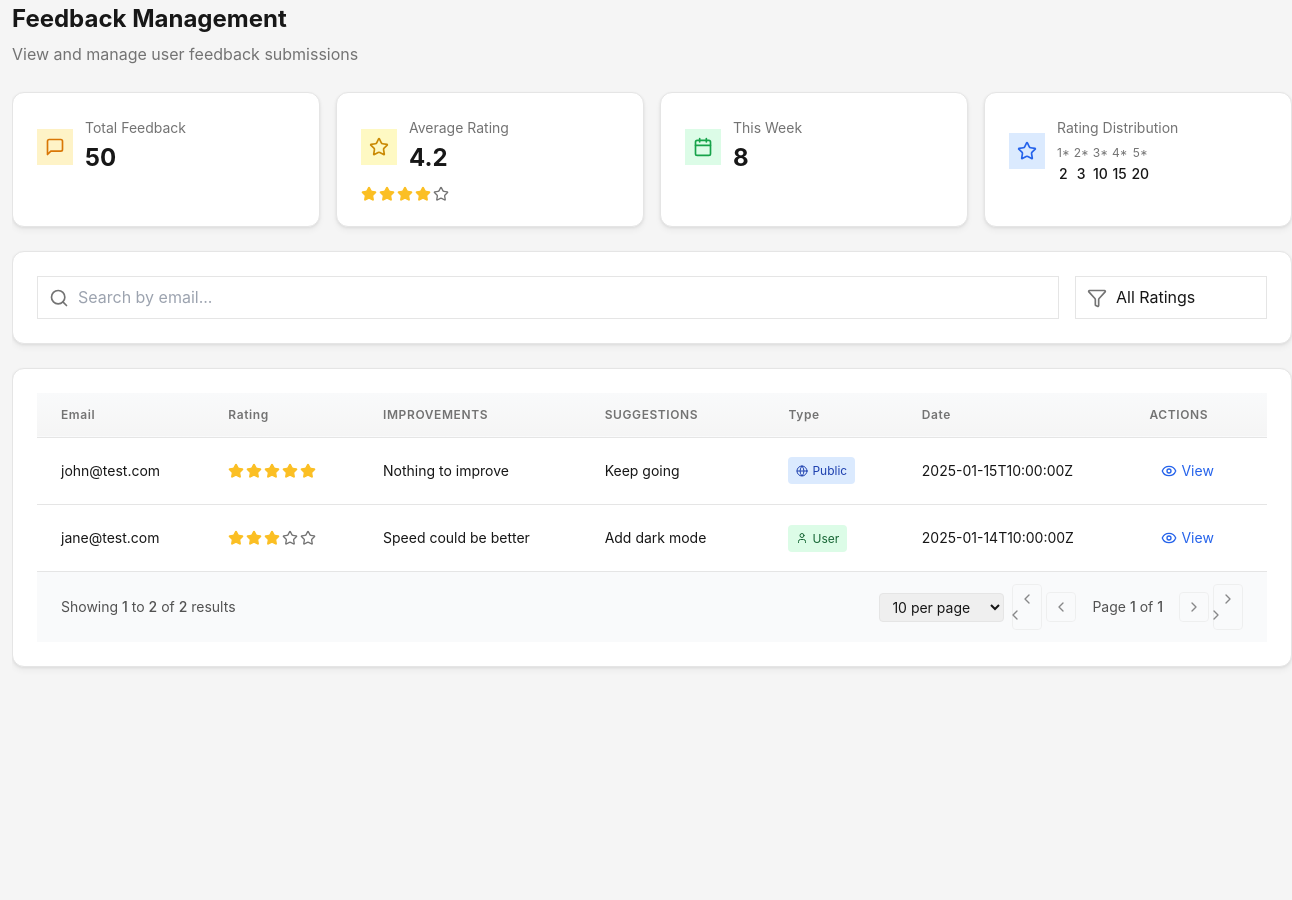
Scenario: FeedbackManagement › handles clear filters
The image size is (1292, 900).
Expected: the text "john@test.com" is shown, [37,437,204,504]
// Type in search to make Clear button appear
Type "test" into the field with placeholder "Search by email...". click: (548, 298)
box: [37,276,1059,319]
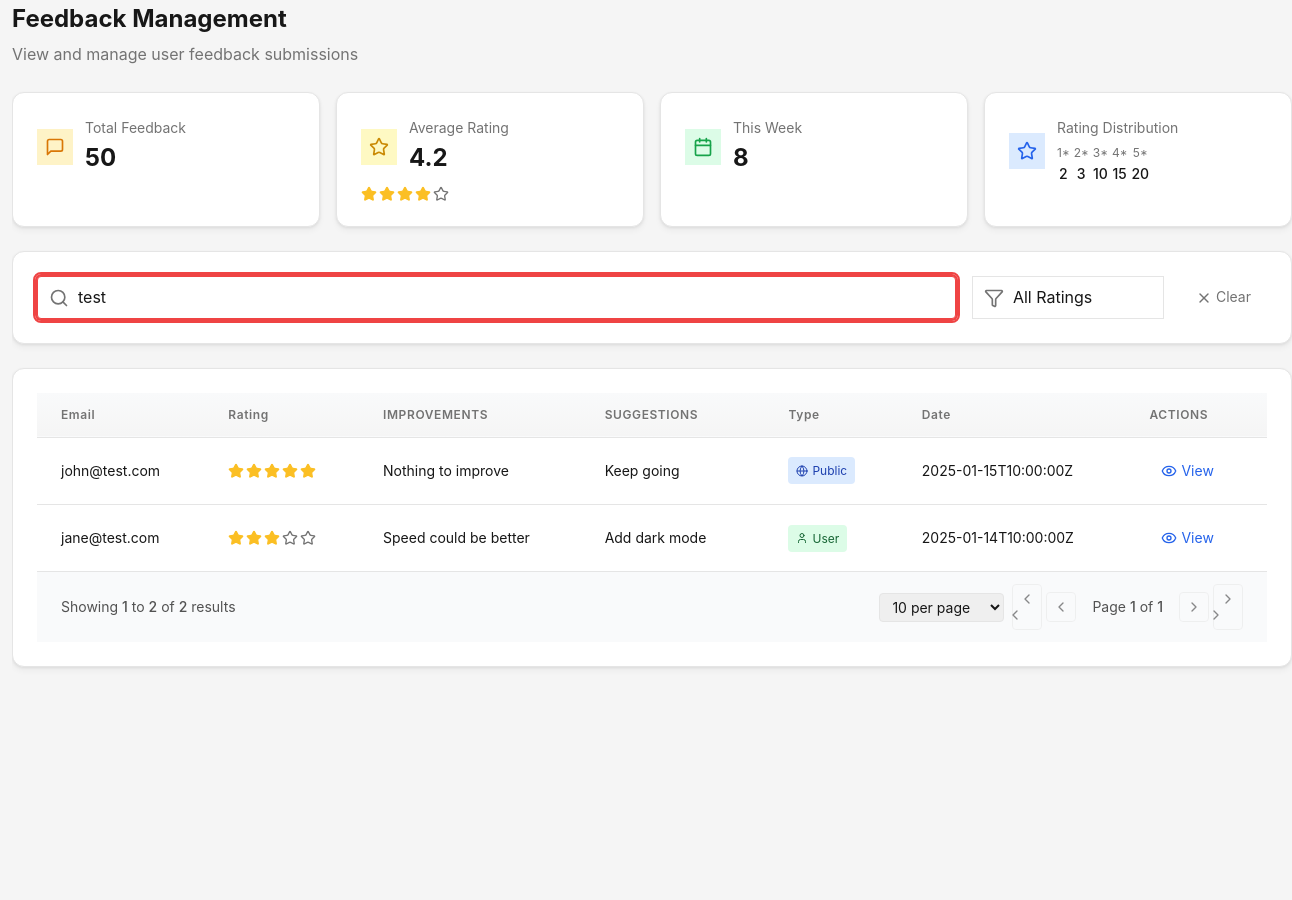
// Click Clear button
Click the button "Clear". click: (1223, 298)
box: [1180,276,1267,319]
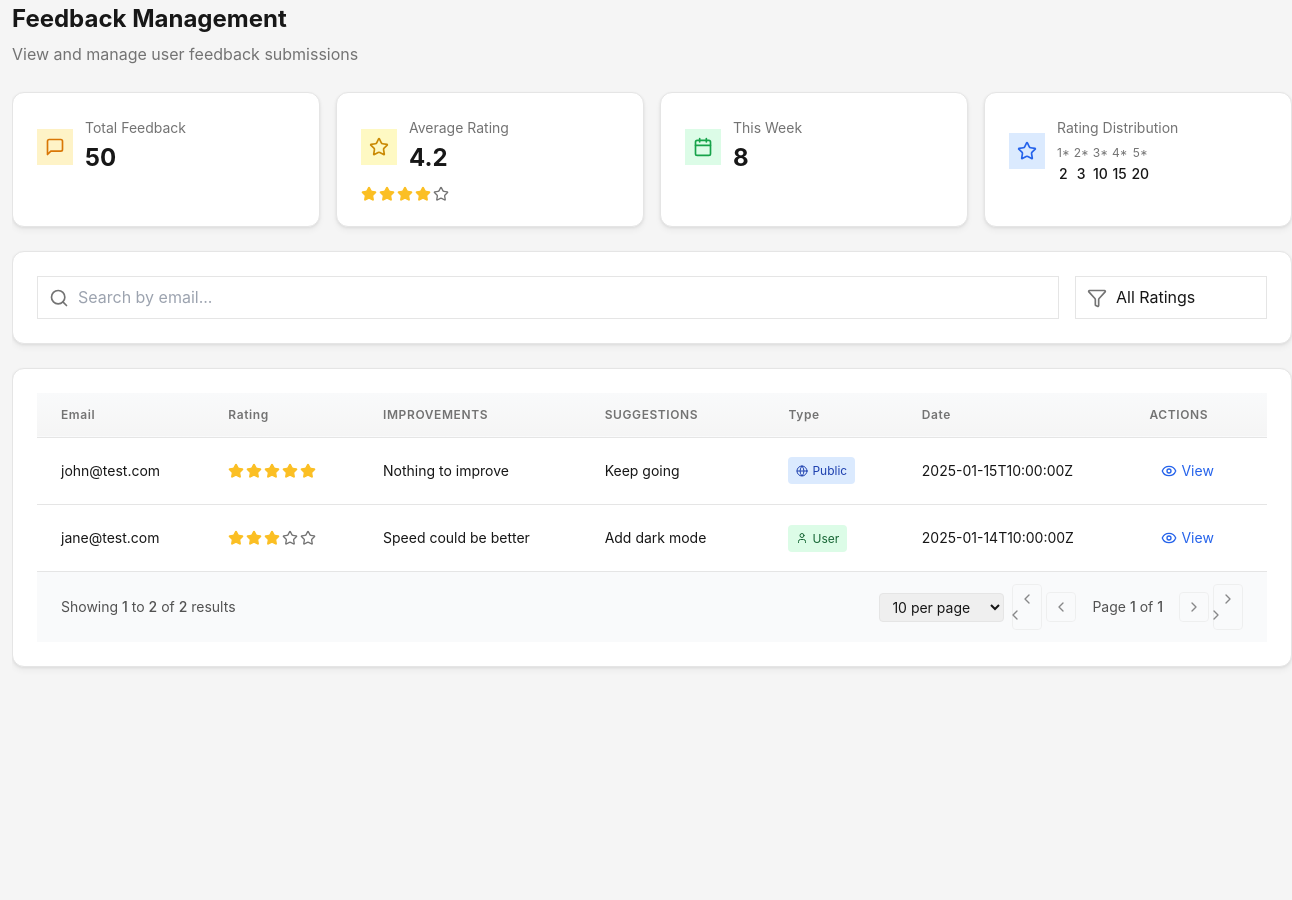
Result: the field with placeholder "Search by email..." is empty at [37,276,1059,319]
